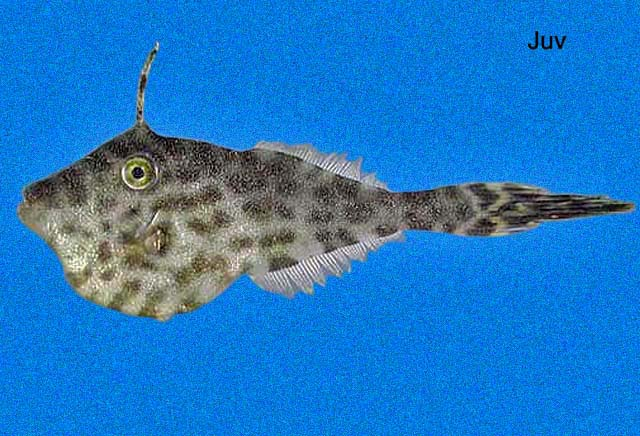Aluterus_scriptus: (14, 51, 637, 326)
